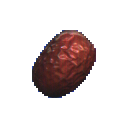gd: (19, 19, 111, 123)
